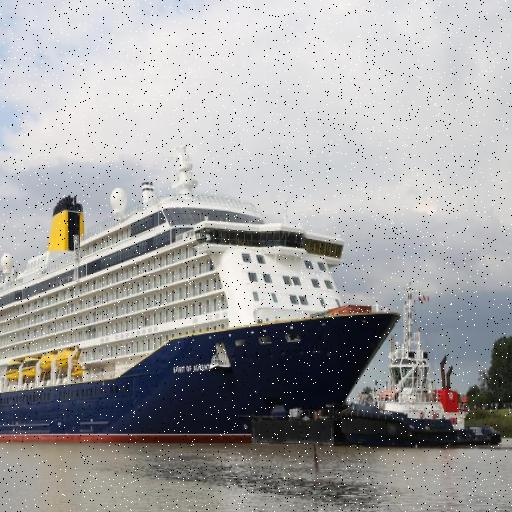cruises: (1, 144, 405, 455)
